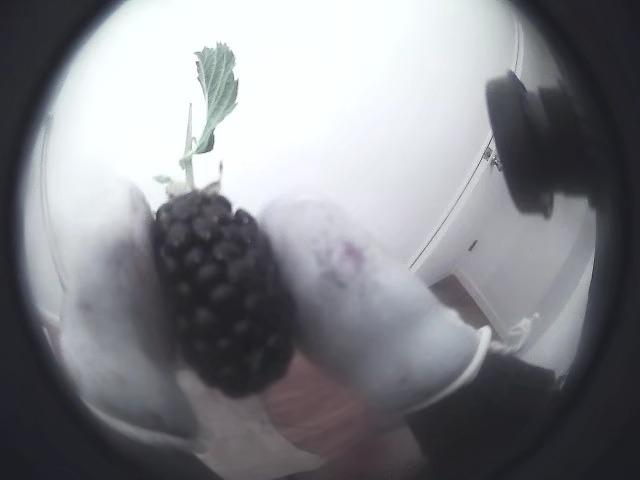berry: (153, 104, 294, 397)
gripper: (260, 201, 489, 415), (61, 182, 197, 443)
lense: (0, 0, 216, 479), (472, 0, 639, 479)
